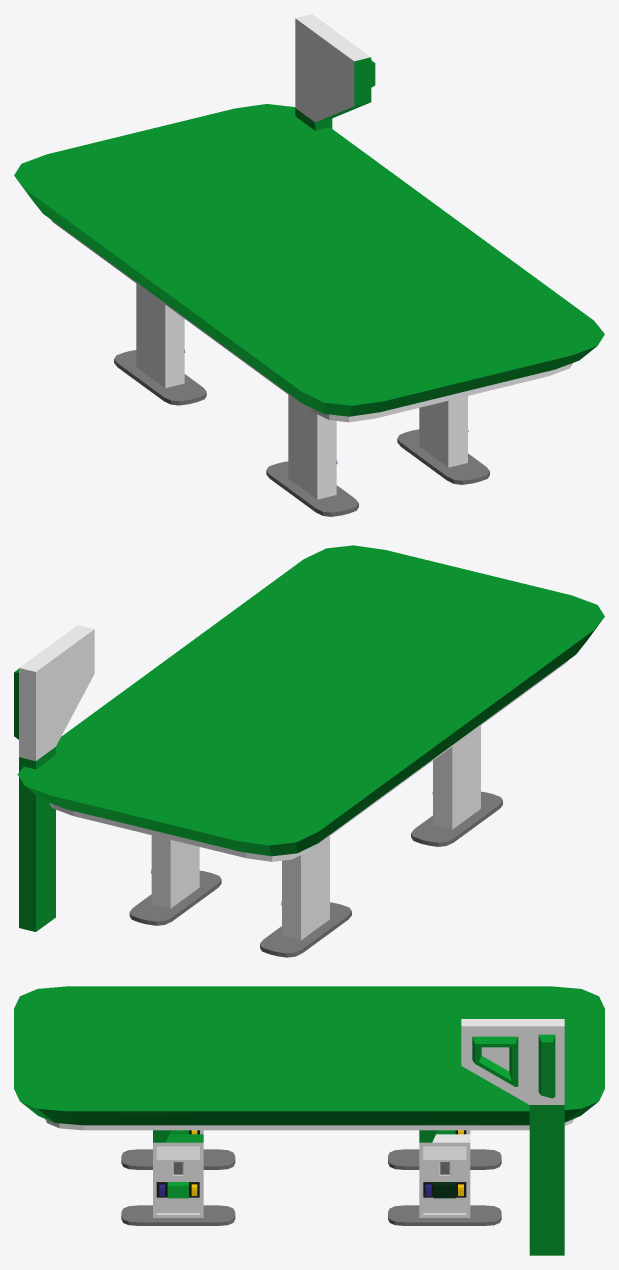
File: Green Gas Station.FBX
3 renders of one model, top to bottom at view 1: azimuth 30°, elevation 25°; view 2: azimuth 150°, elevation 25°; view 3: azimuth 270°, elevation 25°, orthographic. The views are drawn at different scales.
Parts seen in each view (by area): view 1: Green gas station; view 2: Green gas station; view 3: Green gas station.
Part boxes in pixels (left/top/right/bottom): Green gas station: left=14, top=14, right=604, bottom=516; Green gas station: left=14, top=545, right=604, bottom=957; Green gas station: left=14, top=986, right=604, bottom=1255.
Bounding box in the file's own units: 309 × 252 × 589.
Materials: 1 (1 with a texture image).
